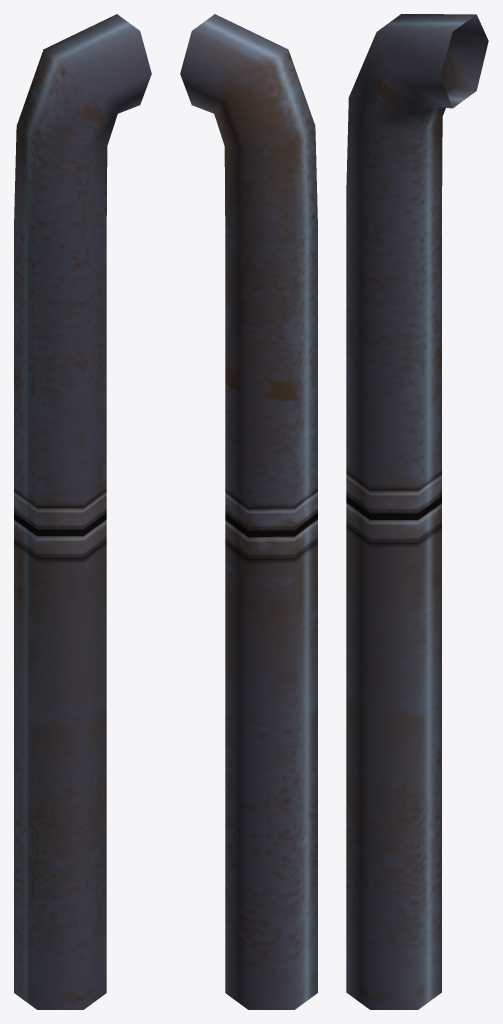
File: rainwaterPipe_top.fbx
The picture shows the model from 3 angles, left to right: view 1: azimuth 30°, elevation 25°; view 2: azimuth 150°, elevation 25°; view 3: azimuth 330°, elevation 25°; orthographic projection. The views are drawn at different scales.
Visible parts, largest first — view 1: rainwaterPipe_top; view 2: rainwaterPipe_top; view 3: rainwaterPipe_top.
Boxes of the visible parts, <box> form: rainwaterPipe_top: <box>14,14,151,1009</box>; rainwaterPipe_top: <box>180,14,317,1009</box>; rainwaterPipe_top: <box>346,14,488,1009</box>.
Bounding box in the file's own units: 36.03 × 319 × 28.82.
